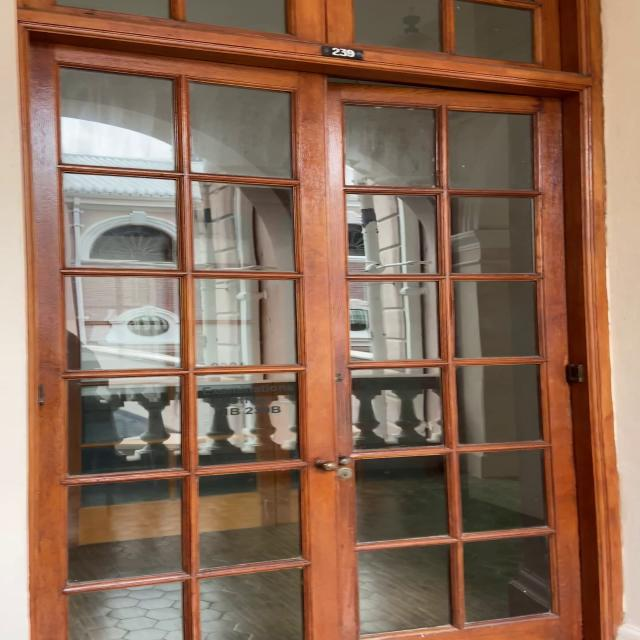room239: (318, 45, 366, 62)
